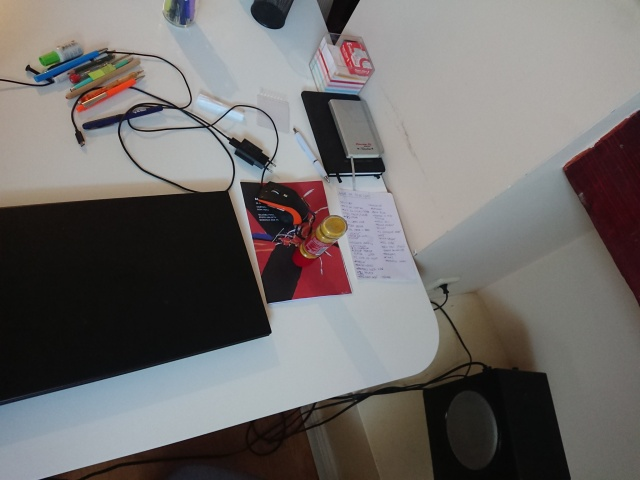Kotanyi Curry Spices Mix 70g: (289, 213, 350, 271)
